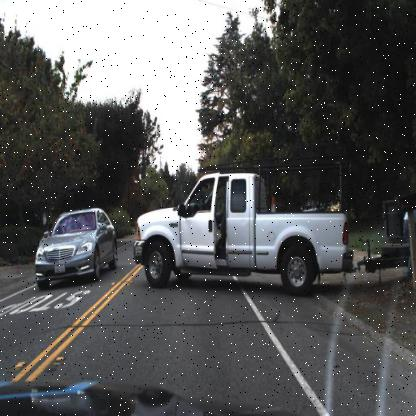car: (31, 200, 120, 294)
truck: (128, 167, 416, 286)
